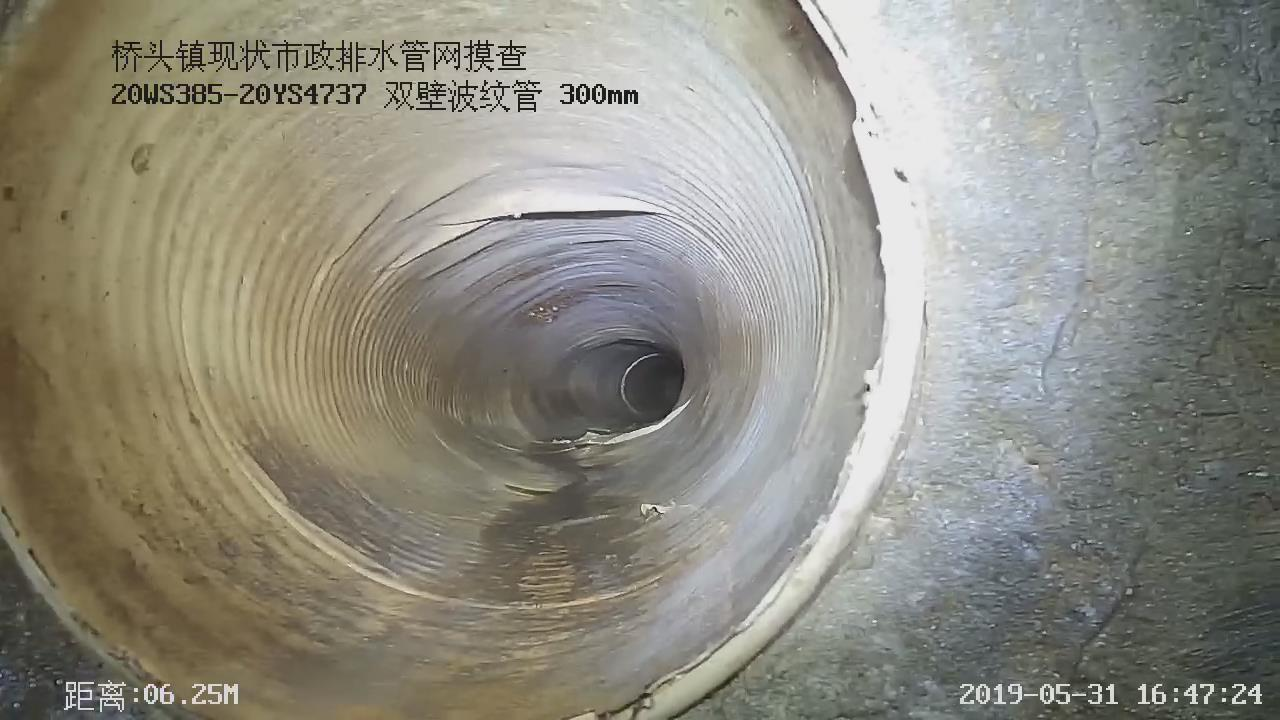BX: (330, 176, 747, 461)
